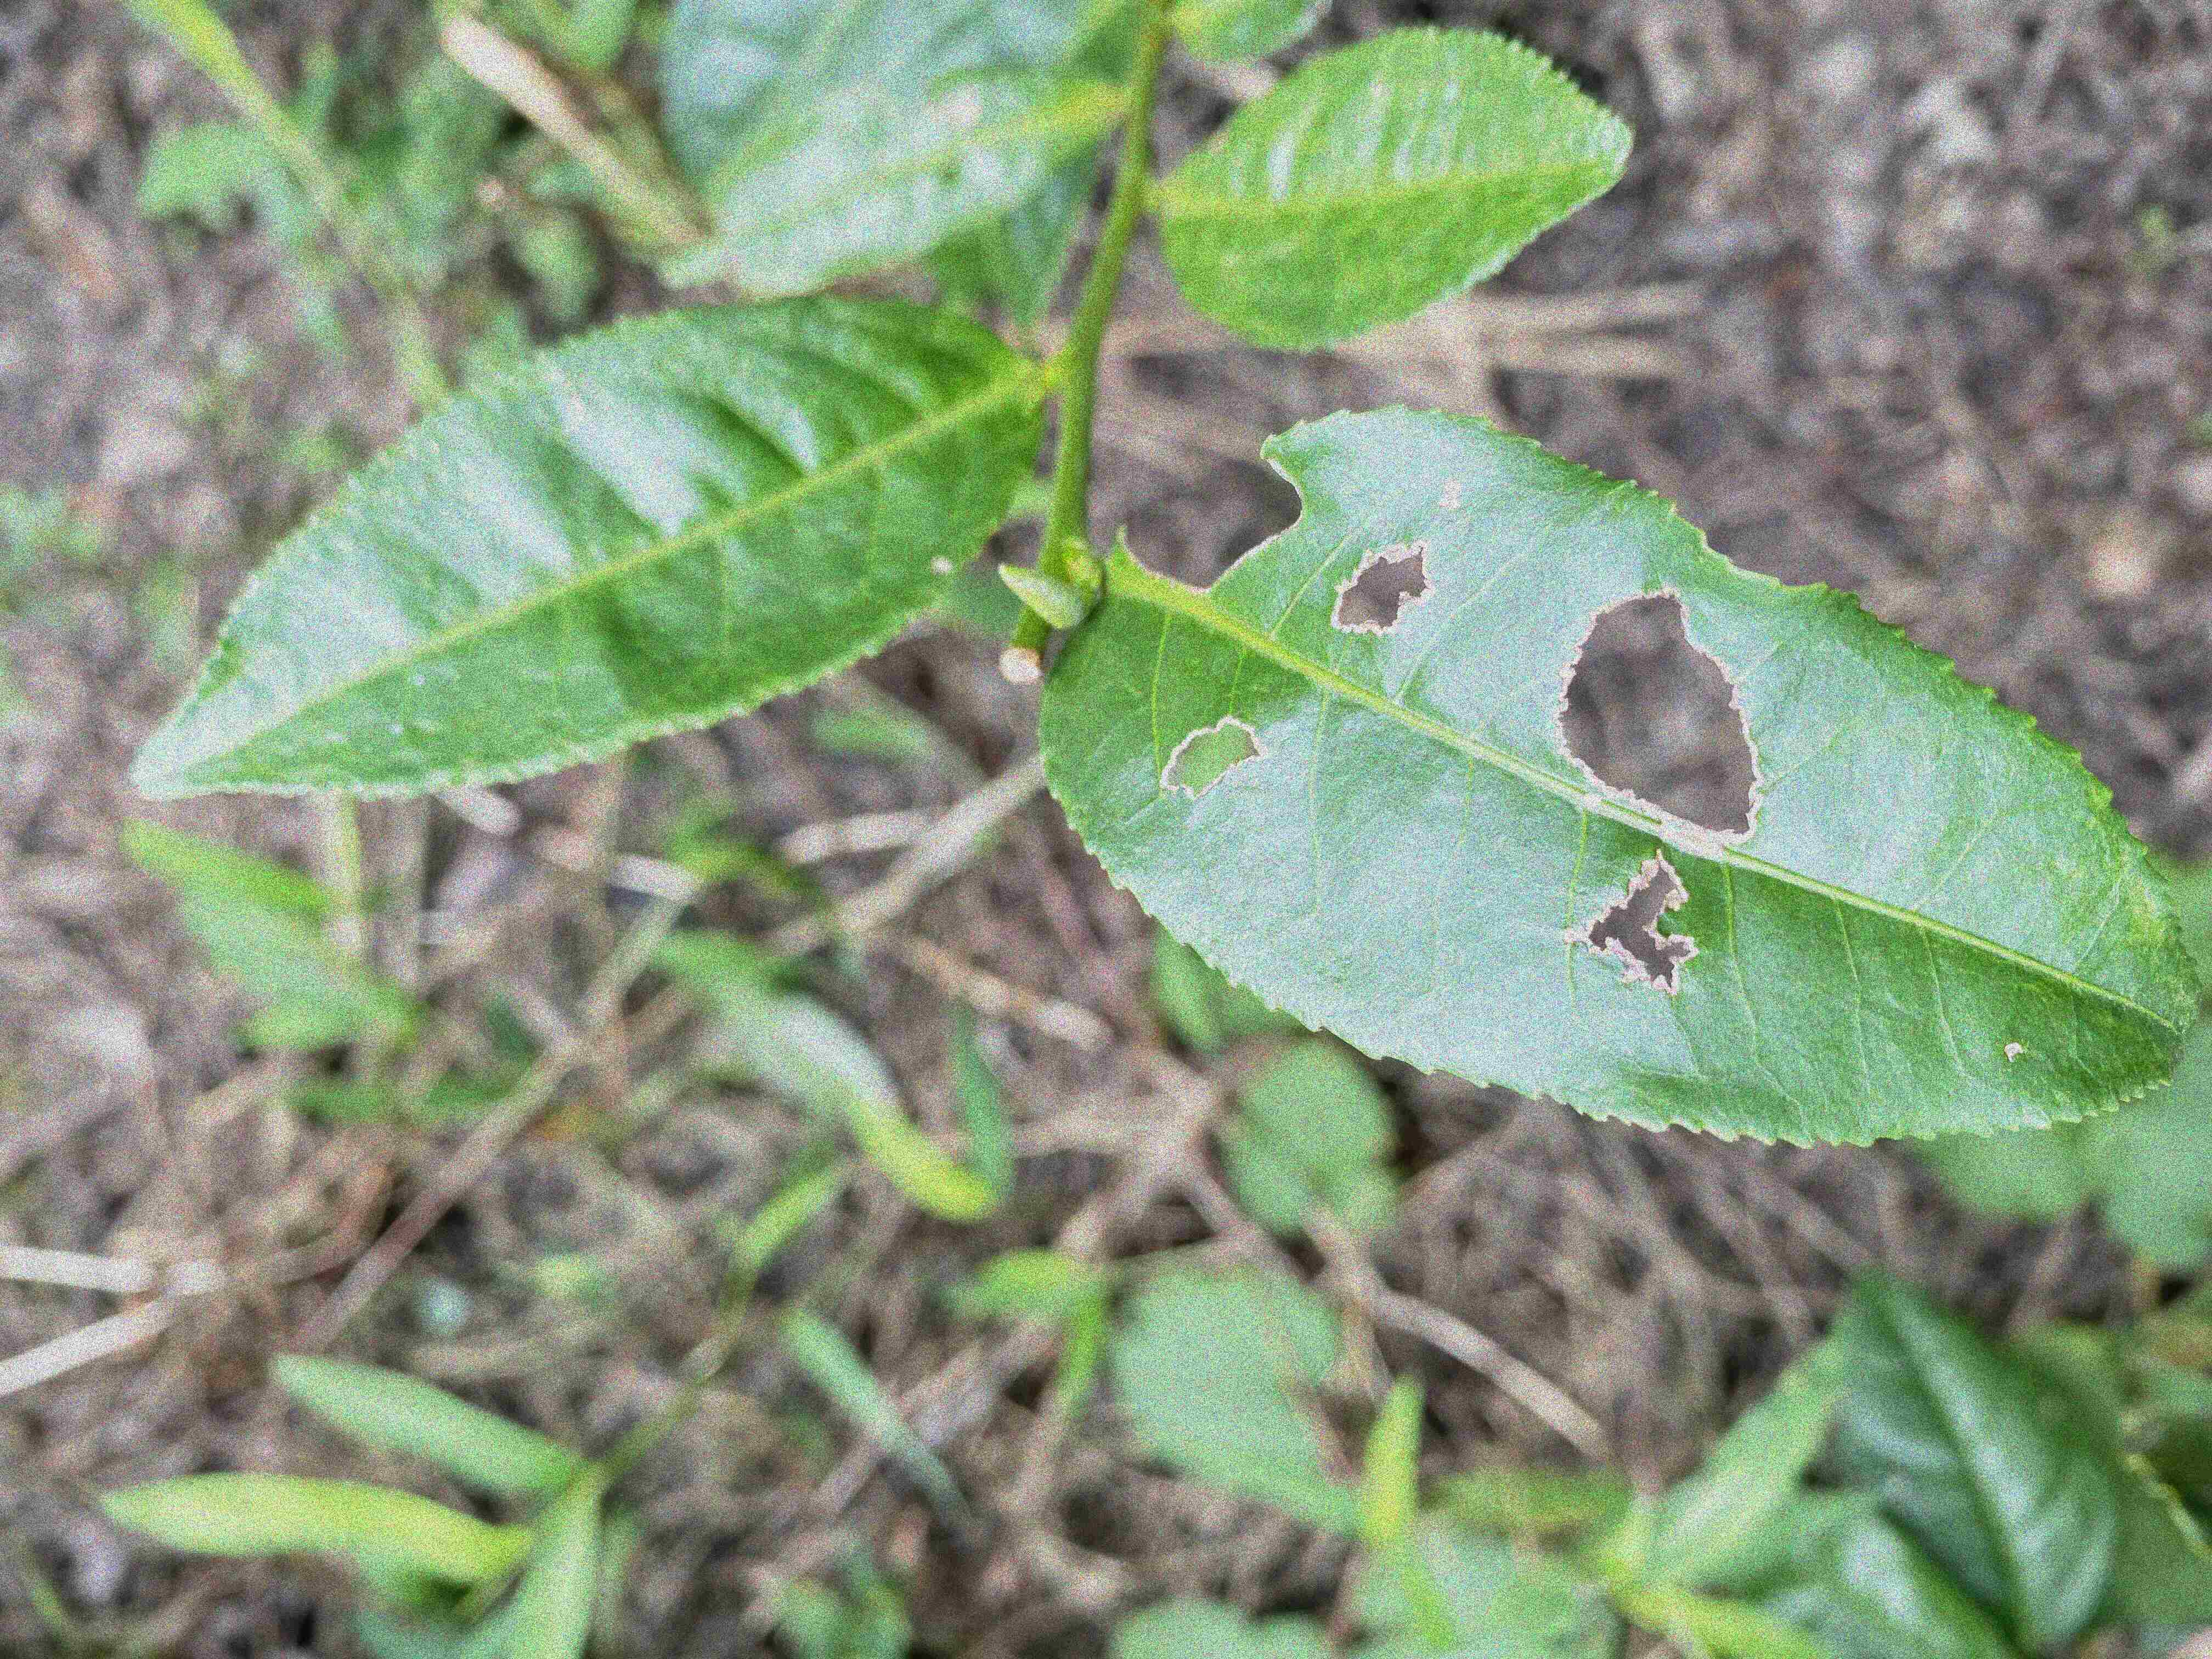chihuo_high: (1038, 403, 2202, 1150)
tanju_low: (131, 303, 1049, 803)
